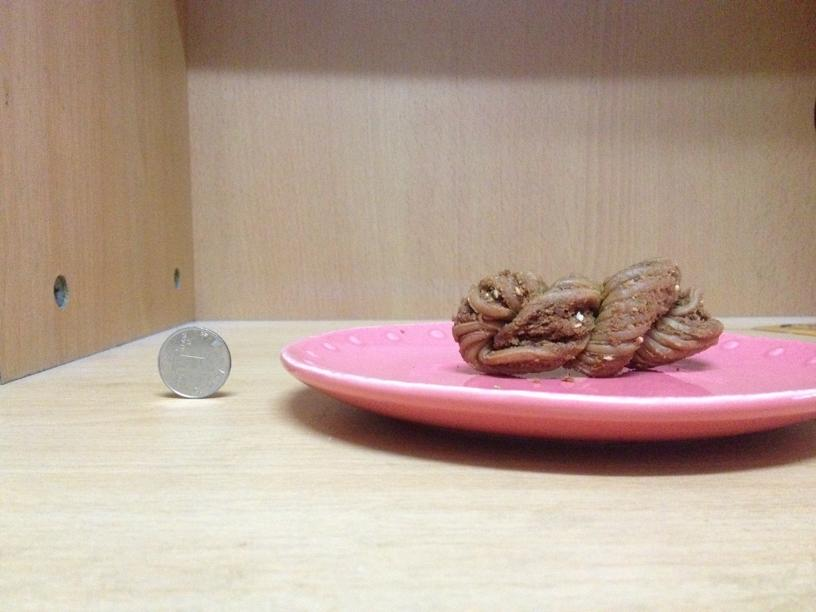coin: (158, 323, 232, 397)
fired_dough_twist: (451, 260, 719, 375)
